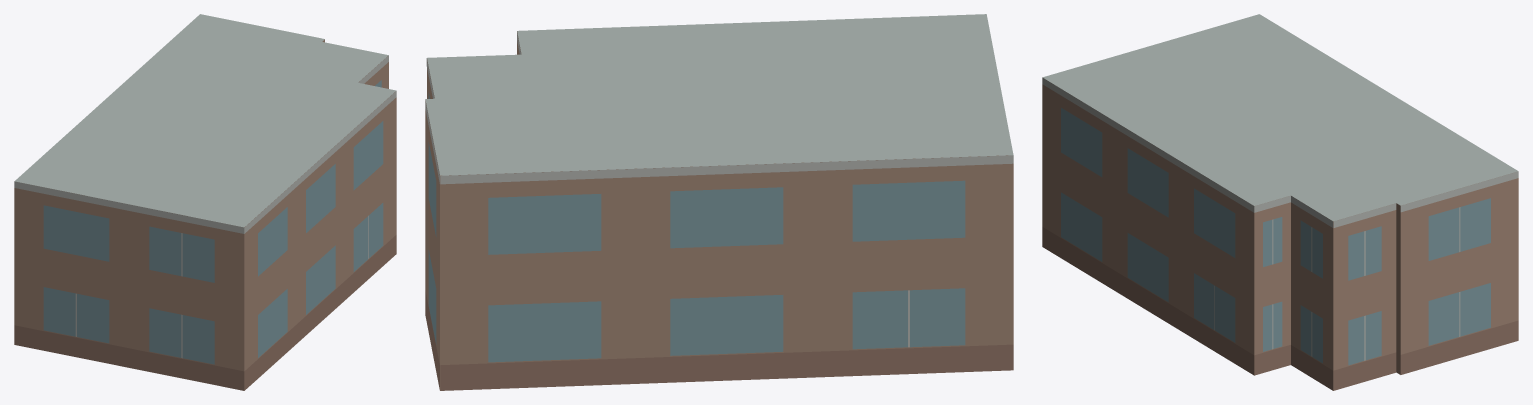
Rendered from survey-upis-32827813.glb.
3 renders of one model, left to right at view 1: azimuth 30°, elevation 25°; view 2: azimuth 150°, elevation 25°; view 3: azimuth 270°, elevation 25°, orthographic. The views are drawn at different scales.
Parts seen in each view (by area): view 1: survey-upis-32827813.tmp; view 2: survey-upis-32827813.tmp; view 3: survey-upis-32827813.tmp.
Part boxes in pixels (<box>): survey-upis-32827813.tmp: <box>14,14,396,390</box>; survey-upis-32827813.tmp: <box>425,14,1013,390</box>; survey-upis-32827813.tmp: <box>1042,14,1518,390</box>.
Bounding box in the file's own units: 16.03 × 6.1 × 15.55.
